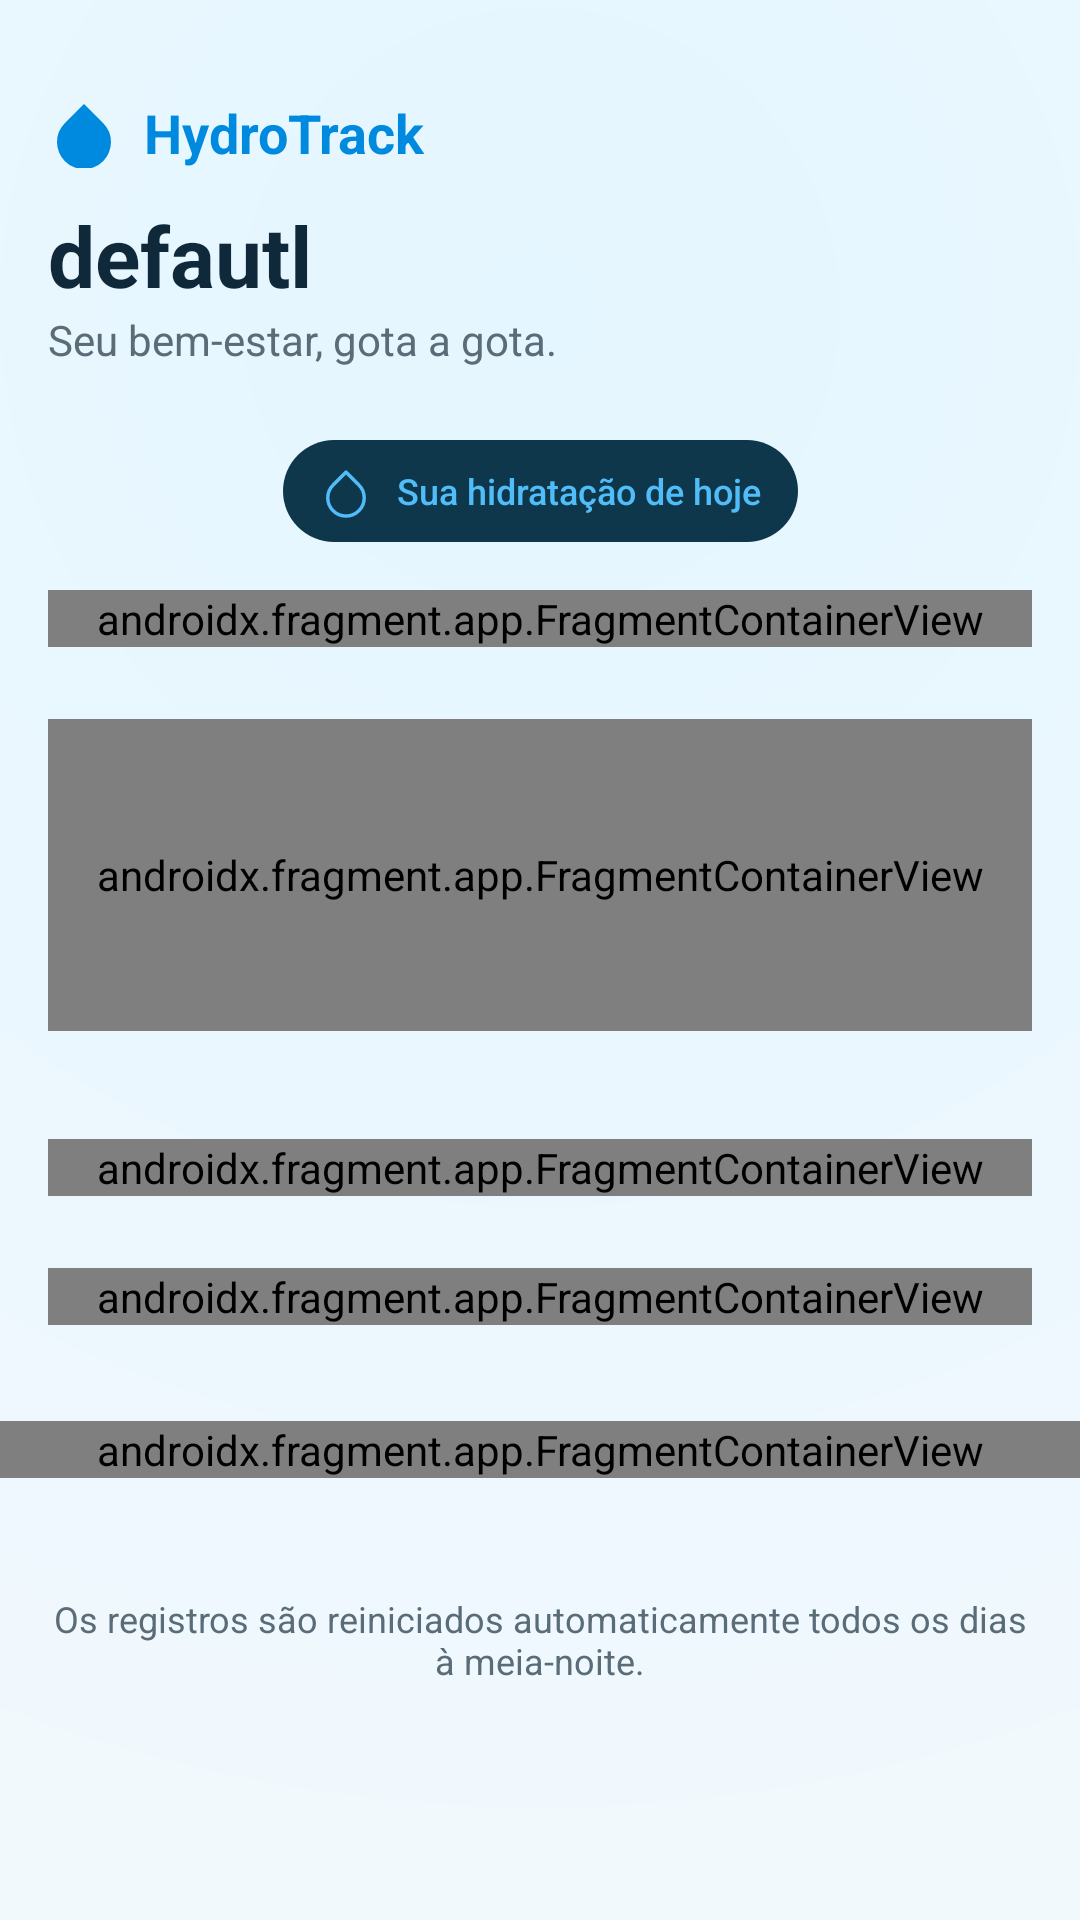

Icon bounding boxes for this 1080 × 1920 phone screenshot, format (x1=x1, y1=y1, x2=x2, y2=y2):
water drop: (x1=57, y1=104, x2=111, y2=168), (x1=326, y1=470, x2=366, y2=518)
